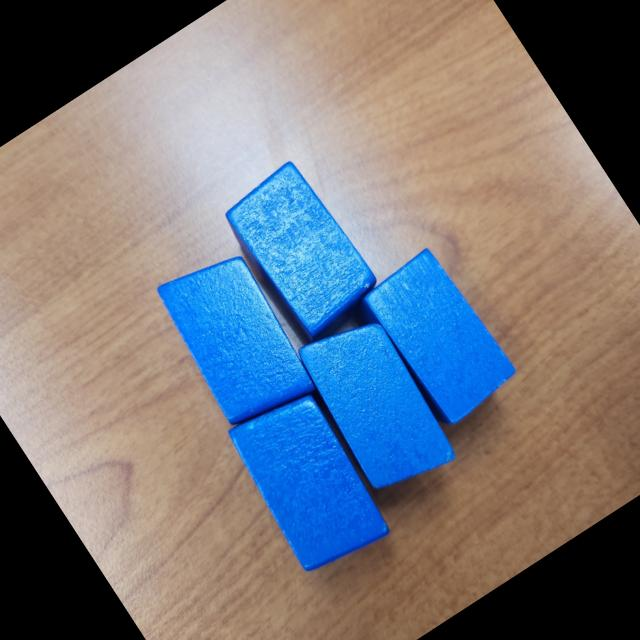blue: (218, 378, 403, 584), (283, 302, 466, 508), (146, 238, 327, 442), (213, 154, 389, 350), (354, 242, 524, 434)
